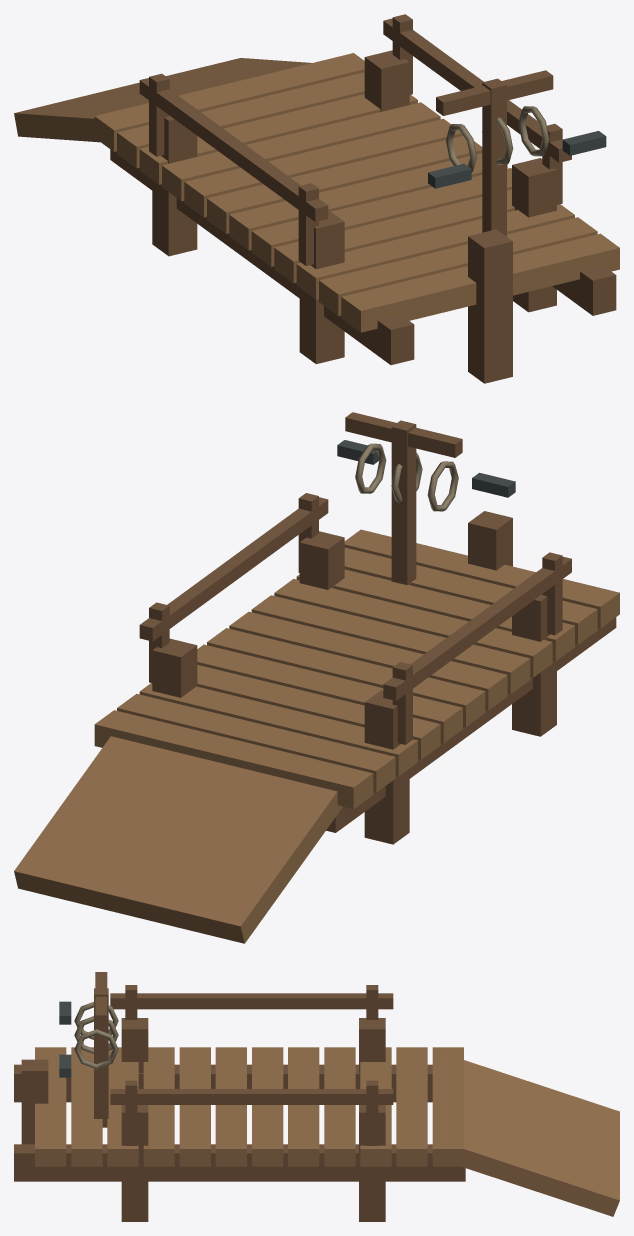
The model's file is fishing-dock.source.glb.
3 renders of one model, top to bottom at view 1: azimuth 30°, elevation 25°; view 2: azimuth 150°, elevation 25°; view 3: azimuth 270°, elevation 25°, orthographic. The views are drawn at different scales.
Parts seen in each view (by area): view 1: fishing-dock-pier-plank-2.12-mesh, fishing-dock-ramp-deck-mesh, fishing-dock-pile-0-2.25-mesh, fishing-dock-pier-plank--0.27999999999999986-mesh, fishing-dock-pier-plank-0.02000000000000013-mesh, fishing-dock-pier-plank--1.18-mesh, fishing-dock-pier-plank-1.8200000000000003-mesh, fishing-dock-pier-plank-0.3200000000000001-mesh, fishing-dock-pier-plank-1.5200000000000002-mesh, fishing-dock-pier-plank-0.9200000000000002-mesh, fishing-dock-pier-plank-0.6200000000000001-mesh, fishing-dock-left-rail-mesh (+20 smaller); view 2: fishing-dock-ramp-deck-mesh, fishing-dock-pier-plank--1.18-mesh, fishing-dock-pier-plank--0.8799999999999999-mesh, fishing-dock-pier-plank-0.9200000000000002-mesh, fishing-dock-pier-plank-0.3200000000000001-mesh, fishing-dock-pier-plank-0.6200000000000001-mesh, fishing-dock-pier-plank-1.2200000000000002-mesh, fishing-dock-pier-plank-0.02000000000000013-mesh, fishing-dock-pier-plank--0.5799999999999998-mesh, fishing-dock-pier-plank-2.12-mesh, fishing-dock-pier-plank--0.27999999999999986-mesh, fishing-dock-left-rail-mesh (+18 smaller); view 3: fishing-dock-ramp-deck-mesh, fishing-dock-beam-0.78-mesh, fishing-dock-left-rail-mesh, fishing-dock-right-rail-mesh, fishing-dock-pier-plank--1.18-mesh, fishing-dock-pier-plank--0.8799999999999999-mesh, fishing-dock-pier-plank--0.27999999999999986-mesh, fishing-dock-pier-plank-0.02000000000000013-mesh, fishing-dock-pier-plank-0.3200000000000001-mesh, fishing-dock-pier-plank-0.6200000000000001-mesh, fishing-dock-pier-plank-0.9200000000000002-mesh, fishing-dock-pier-plank-2.12-mesh (+19 smaller).
Part boxes in pixels (x1,y1,x2,y2): fishing-dock-pier-plank-2.12-mesh: (341, 233, 619, 332); fishing-dock-ramp-deck-mesh: (14, 58, 348, 142); fishing-dock-pile-0-2.25-mesh: (468, 229, 512, 383); fishing-dock-pier-plank--0.27999999999999986-mesh: (162, 102, 440, 201); fishing-dock-pier-plank-0.02000000000000013-mesh: (184, 118, 462, 217); fishing-dock-pier-plank--1.18-mesh: (94, 53, 364, 151); fishing-dock-pier-plank-1.8200000000000003-mesh: (319, 217, 597, 316); fishing-dock-pier-plank-0.3200000000000001-mesh: (207, 136, 482, 233); fishing-dock-pier-plank-1.5200000000000002-mesh: (296, 204, 574, 299); fishing-dock-pier-plank-0.9200000000000002-mesh: (251, 168, 511, 266); fishing-dock-pier-plank-0.6200000000000001-mesh: (229, 153, 507, 250); fishing-dock-left-rail-mesh: (139, 78, 328, 222); fishing-dock-ramp-deck-mesh: (14, 719, 349, 943); fishing-dock-pier-plank--1.18-mesh: (94, 710, 373, 809); fishing-dock-pier-plank--0.8799999999999999-mesh: (117, 693, 395, 792); fishing-dock-pier-plank-0.9200000000000002-mesh: (251, 595, 530, 694); fishing-dock-pier-plank-0.3200000000000001-mesh: (207, 628, 485, 726); fishing-dock-pier-plank-0.6200000000000001-mesh: (229, 611, 507, 710); fishing-dock-pier-plank-1.2200000000000002-mesh: (274, 579, 552, 677); fishing-dock-pier-plank-0.02000000000000013-mesh: (197, 644, 462, 743); fishing-dock-pier-plank--0.5799999999999998-mesh: (139, 683, 417, 776); fishing-dock-pier-plank-2.12-mesh: (344, 529, 619, 628); fishing-dock-pier-plank--0.27999999999999986-mesh: (197, 665, 440, 759); fishing-dock-left-rail-mesh: (383, 556, 571, 700); fishing-dock-ramp-deck-mesh: (444, 1054, 619, 1216); fishing-dock-beam-0.78-mesh: (14, 1144, 465, 1181); fishing-dock-left-rail-mesh: (110, 993, 393, 1009); fishing-dock-right-rail-mesh: (110, 1089, 393, 1104); fishing-dock-pier-plank--1.18-mesh: (432, 1047, 463, 1166); fishing-dock-pier-plank--0.8799999999999999-mesh: (396, 1047, 427, 1166); fishing-dock-pier-plank--0.27999999999999986-mesh: (324, 1047, 355, 1166); fishing-dock-pier-plank-0.02000000000000013-mesh: (288, 1047, 319, 1166); fishing-dock-pier-plank-0.3200000000000001-mesh: (252, 1047, 283, 1166); fishing-dock-pier-plank-0.6200000000000001-mesh: (215, 1047, 246, 1166); fishing-dock-pier-plank-0.9200000000000002-mesh: (179, 1047, 210, 1166); fishing-dock-pier-plank-2.12-mesh: (35, 1047, 66, 1166).
Size of the model in its own units: 2.01 by 1.84 by 5.03.
